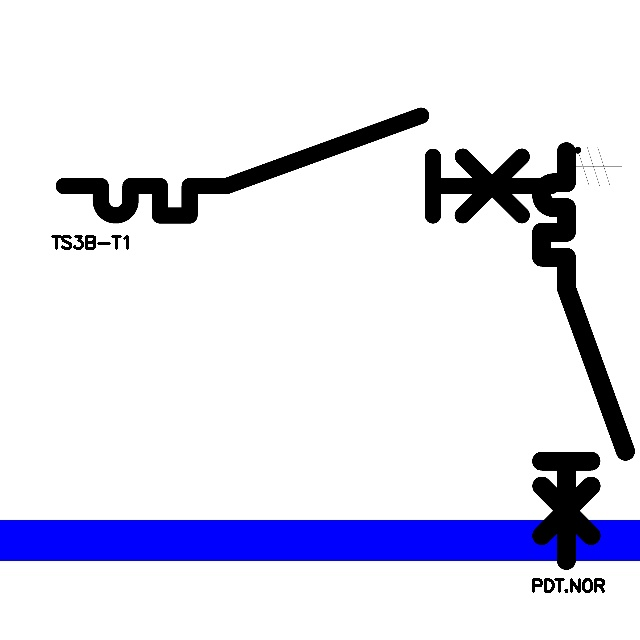interruptor_termomagnetico: (51, 103, 563, 228), (531, 141, 636, 571)
